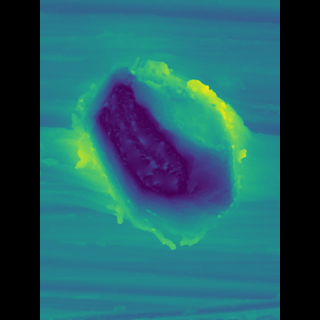Loch: (89, 49, 231, 254)
